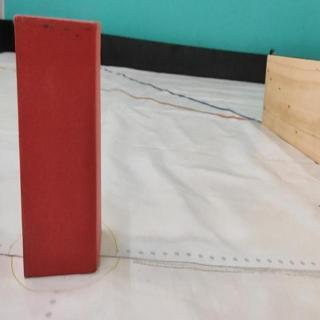redbox: (12, 14, 99, 279)
